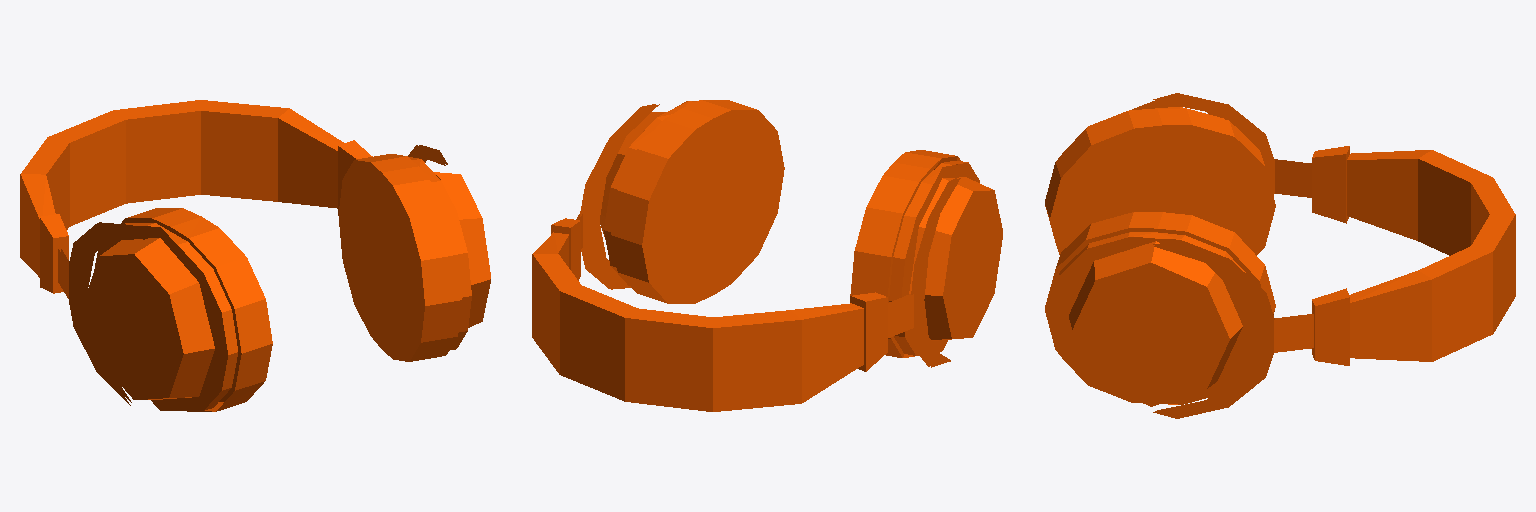
URDF robot description (Earphone_12389_right_earcup):
<?xml version="1.0" ?>
<robot name="Earphone_12389_right_earcup">
   <material name="obj_color">
      <color rgba="1.0 0.423529411765 0.0392156862745 1.0"/>
   </material>
   <link name="top">
      <inertial>
         <origin rpy="6.23028733789828e-05 9.57034878149483e-05 0.0001325147263299603" xyz="0.05289041605879657 -0.03086988814876772 -0.0001962446259160797"/>
         <mass value="0.1587571292347364"/>
         <inertia ixx="0.000130600576766551" ixy="-1.143380025399876e-05" ixz="1.046509085816985e-08" iyy="6.421701987102876e-05" iyz="-4.964707305060424e-09" izz="9.570349088631162e-05"/>
      </inertial>
      <visual>
         <origin rpy="0 0 0" xyz="0 0 0"/>
         <geometry>
            <mesh filename="top_watertight_tiny.stl" scale="1 1 1"/>
         </geometry>
         <material name="obj_color"/>
      </visual>
      <collision>
         <origin rpy="0 0 0" xyz="0 0 0"/>
         <geometry>
            <mesh filename="top_watertight_tiny.obj" scale="1 1 1"/>
         </geometry>
      </collision>
   </link>
   <link name="bottom">
      <inertial>
         <origin rpy="0.0008196806189964749 0.001854878071565758 0.002286705405488407" xyz="-0.0177792242525992 0.01352406425604557 -0.000189859217590711"/>
         <mass value="0.8136409669306073"/>
         <inertia ixx="0.001567333193793132" ixy="-0.0004636633116718619" ixz="1.122188539600669e-07" iyy="0.001107225515551288" iyz="1.058579991700309e-07" izz="0.00228670538670622"/>
      </inertial>
      <visual>
         <origin rpy="0 0 0" xyz="0 0 0"/>
         <geometry>
            <mesh filename="bottom_watertight_tiny.stl" scale="1 1 1"/>
         </geometry>
         <material name="obj_color"/>
      </visual>
      <collision>
         <origin rpy="0 0 0" xyz="0 0 0"/>
         <geometry>
            <mesh filename="bottom_watertight_tiny.obj" scale="1 1 1"/>
         </geometry>
      </collision>
   </link>
   <joint name="rotation" type="revolute">
      <origin xyz="0 0 0"/>
      <axis xyz="0 0 -1"/>
      <parent link="bottom"/>
      <child link="top"/>
      <dynamics damping="1.0" friction="1.0"/>
      <limit effort="0.1" velocity="0.1" lower="0" upper="0.001"/>
   </joint>
</robot>

--- Facts derived from the render (not from the file) ---
The picture shows the robot from 3 angles, left to right: view 1: azimuth 30°, elevation 25°; view 2: azimuth 150°, elevation 25°; view 3: azimuth 270°, elevation 25°; orthographic projection.
Robot: Earphone_12389_right_earcup — 2 links, 1 joints (1 revolute); root link bottom; default pose: all joints at 0.
Visible links, largest first — view 1: bottom, top; view 2: bottom, top; view 3: bottom, top.
Boxes of the visible links, bbox=[...] form: bottom: bbox=[20, 100, 372, 411]; top: bbox=[338, 145, 490, 361]; bottom: bbox=[532, 150, 1002, 411]; top: bbox=[576, 100, 784, 303]; bottom: bbox=[1045, 93, 1515, 365]; top: bbox=[1045, 212, 1313, 418].
Bounding box of the posed robot: 0.1491 × 0.1773 × 0.0755 m (x, y, z).
Meshes: 2 distinct files referenced, 2 mesh visuals loaded (2 binary STL).